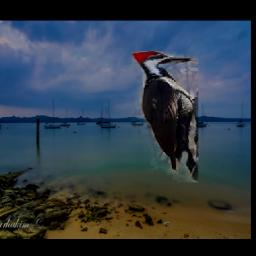Woodpecker: (132, 51, 198, 183)
